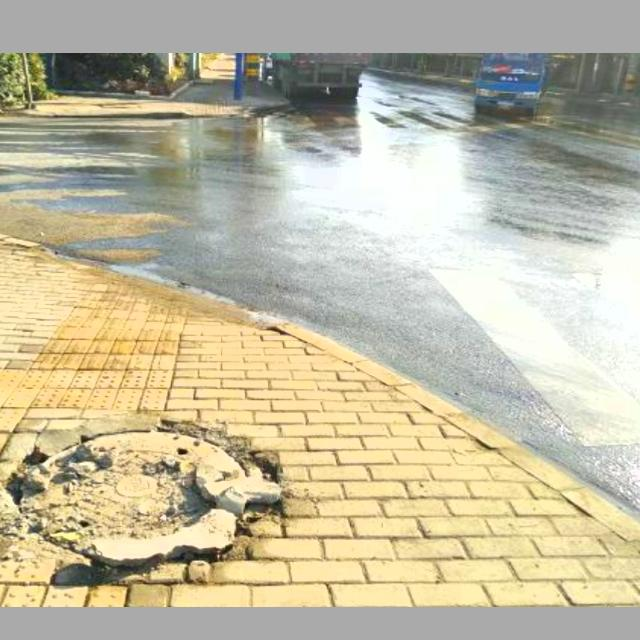circle: (0, 403, 284, 572)
